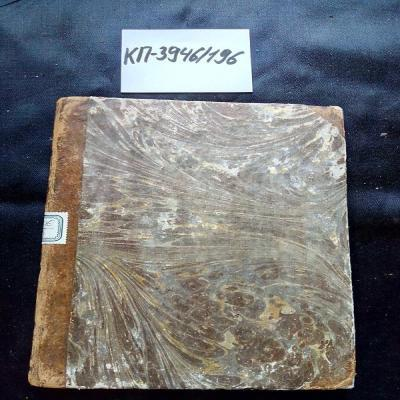rare_books: (26, 97, 357, 391)
